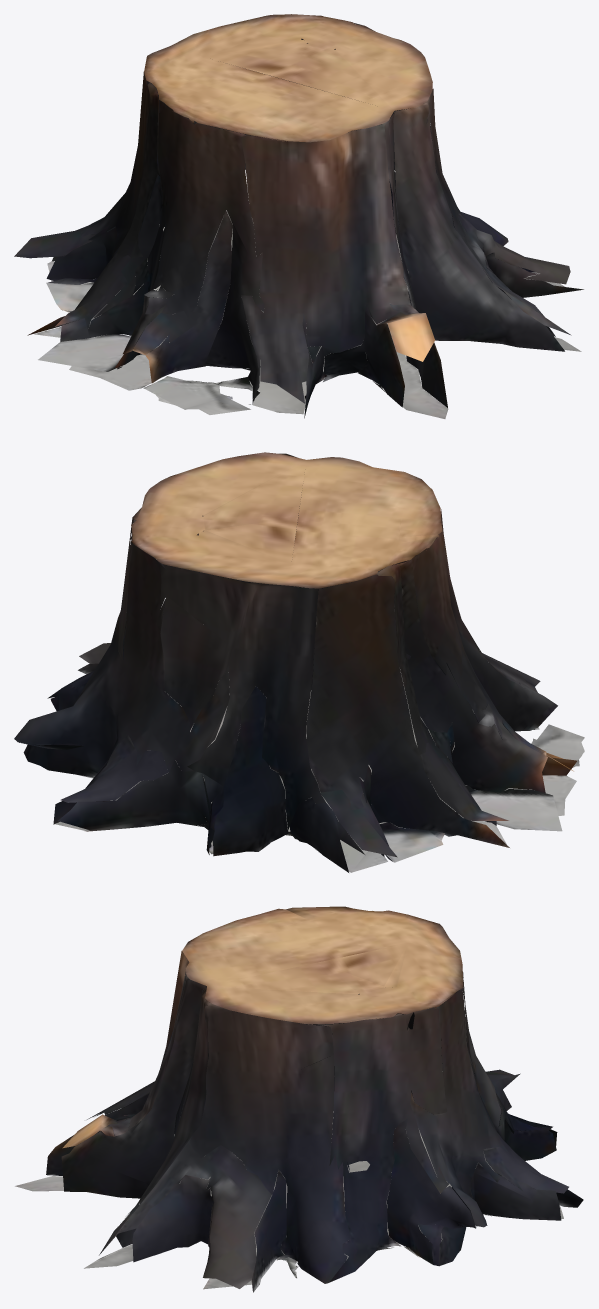
Rendered from pinheiro_cinza_toco.glb.
3 views of the same model, one above another, from view 1: azimuth 30°, elevation 25°; view 2: azimuth 150°, elevation 25°; view 3: azimuth 270°, elevation 25° (orthographic). The views are drawn at different scales.
Parts seen in each view (by area): view 1: geometry_0; view 2: geometry_0; view 3: geometry_0.
Boxes of the visible parts, x1=… form: geometry_0: x1=14, y1=14, x2=583, y2=418; geometry_0: x1=14, y1=452, x2=584, y2=872; geometry_0: x1=15, y1=906, x2=583, y2=1292.
Size of the model in its own units: 0.9394 by 0.4233 by 0.9685.
1 material, 1 textured.
